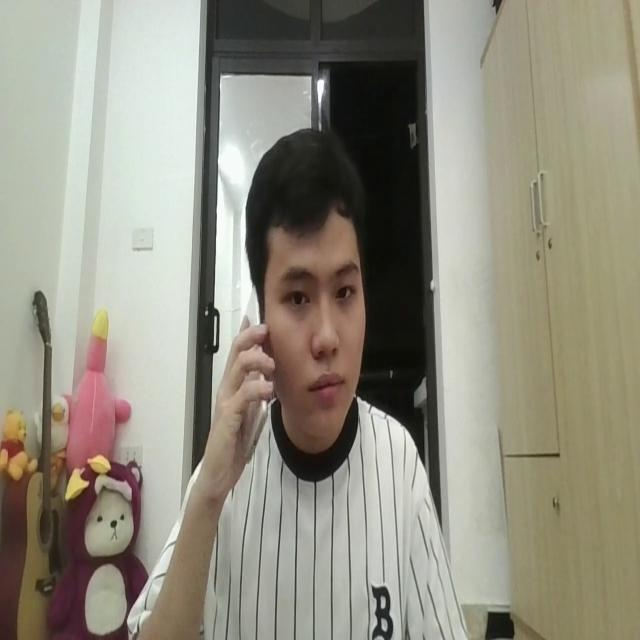phone: (234, 294, 272, 454)
student: (123, 126, 464, 640)
